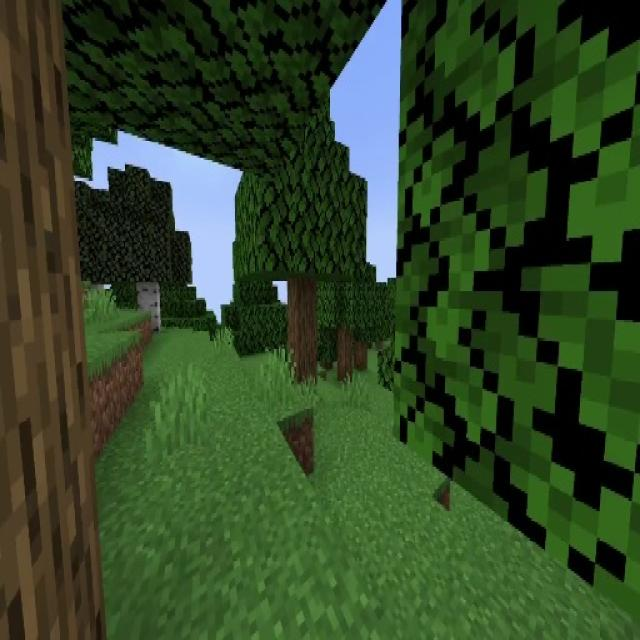birch: (98, 170, 192, 330)
birch_log: (135, 283, 159, 327)
oak: (228, 92, 366, 378), (312, 262, 372, 381), (334, 278, 383, 366)
oak_log: (288, 284, 318, 378), (338, 329, 350, 380), (353, 331, 368, 367)
